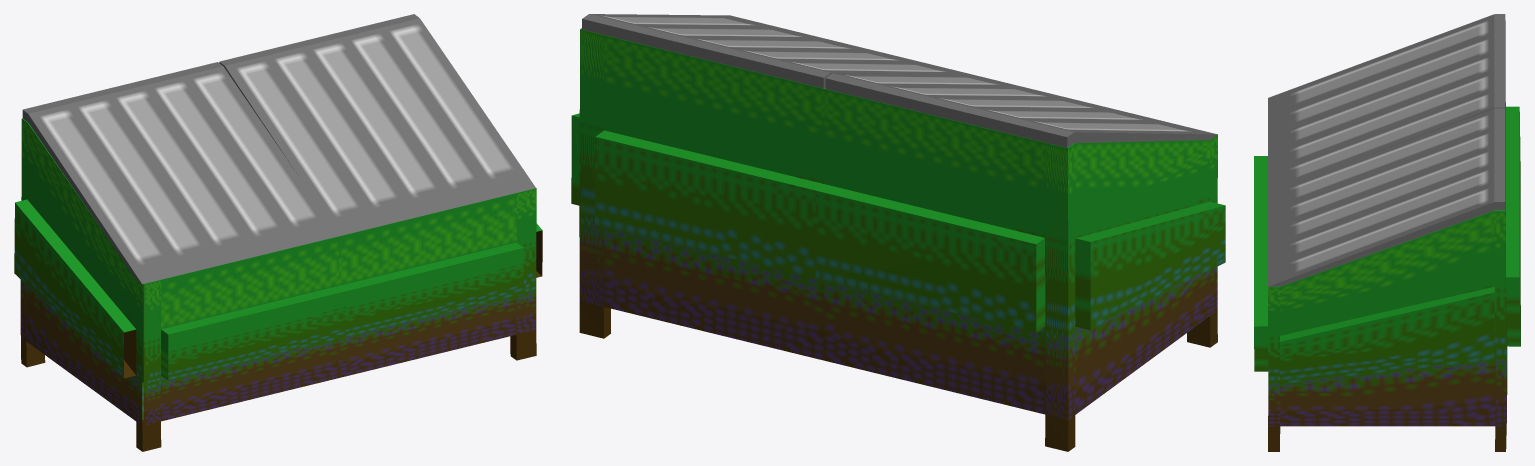
Rendered from dumpster.dae.
3 views of the same model, side by side, from view 1: azimuth 30°, elevation 25°; view 2: azimuth 150°, elevation 25°; view 3: azimuth 270°, elevation 25° (orthographic). The views are drawn at different scales.
Parts seen in each view (by area): view 1: dumpster, dumpsterdoor_1, dumpsterdoor_2; view 2: dumpster, dumpsterdoor_1, dumpsterdoor_2; view 3: dumpster, dumpsterdoor_2, dumpsterdoor_1.
Boxes of the visible parts, x1,y1,x2,y2 form: dumpster: (14, 118, 542, 451); dumpsterdoor_1: (22, 62, 338, 284); dumpsterdoor_2: (219, 14, 535, 236); dumpster: (571, 28, 1225, 451); dumpsterdoor_1: (825, 73, 1217, 147); dumpsterdoor_2: (582, 14, 973, 88); dumpster: (1254, 102, 1520, 451); dumpsterdoor_2: (1268, 108, 1505, 286); dumpsterdoor_1: (1268, 14, 1505, 192).
Size of what is drawn, in the model's own units: 8.51 by 4.77 by 4.92.
